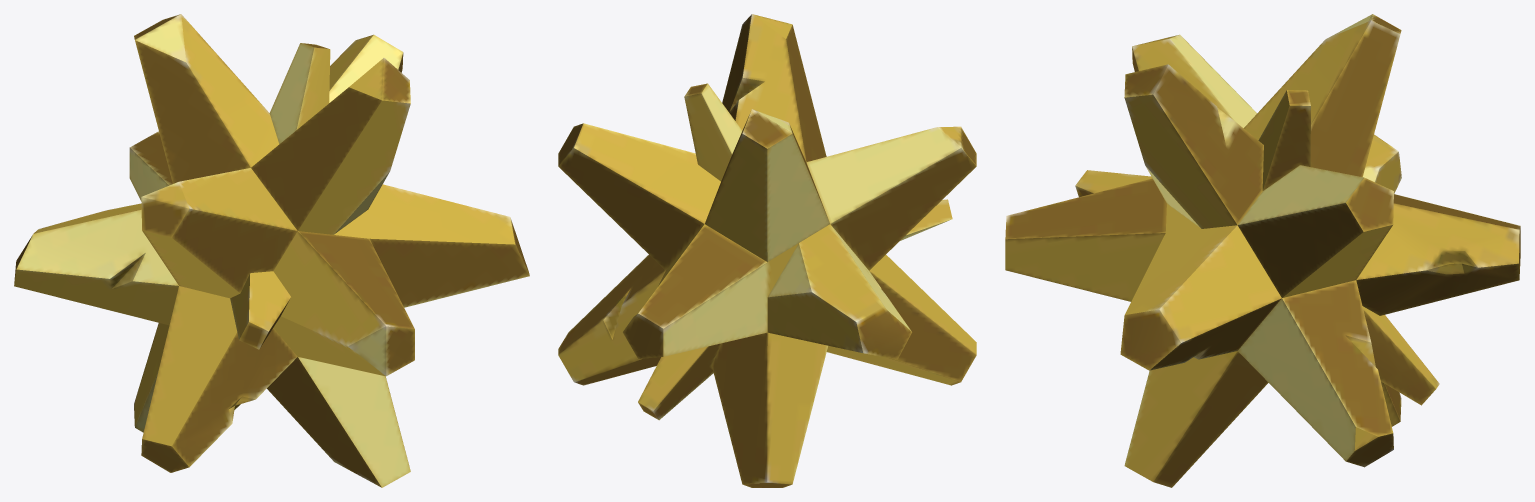
Rendered from star.glb.
The picture shows the model from 3 angles, left to right: view 1: azimuth 30°, elevation 25°; view 2: azimuth 150°, elevation 25°; view 3: azimuth 270°, elevation 25°; orthographic projection. The views are drawn at different scales.
Visible parts, largest first — view 1: Root__Mt_Ore; view 2: Root__Mt_Ore; view 3: Root__Mt_Ore.
Part boxes in pixels (box(x1,y1,x2,y2)): Root__Mt_Ore: box(14, 14, 529, 487); Root__Mt_Ore: box(558, 14, 976, 487); Root__Mt_Ore: box(1005, 14, 1520, 487).
Bounding box in the file's own units: 0.79 × 0.7864 × 0.8647.
Materials: 1 (1 with a texture image).
